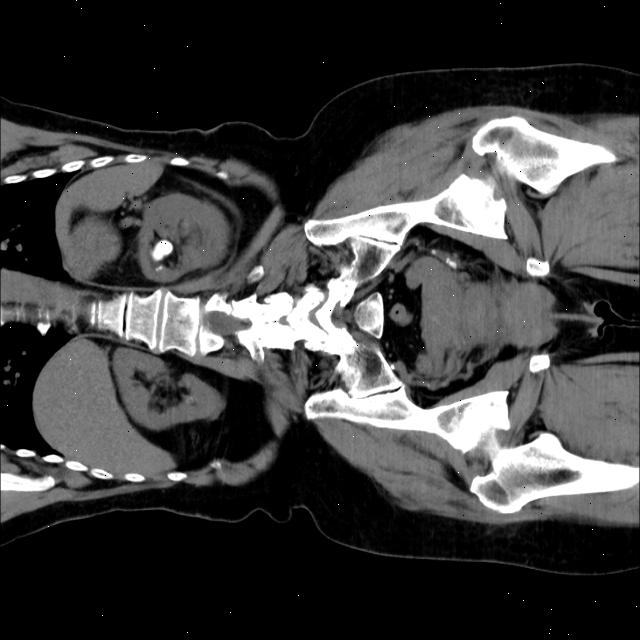kidneystone: (151, 239, 173, 260)
